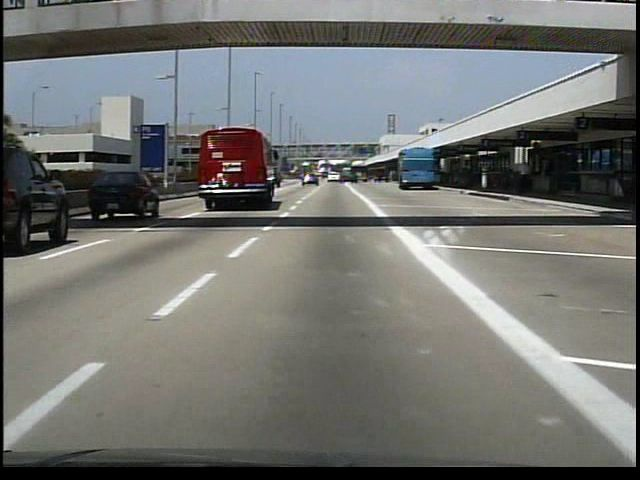person: (519, 158, 534, 193)
